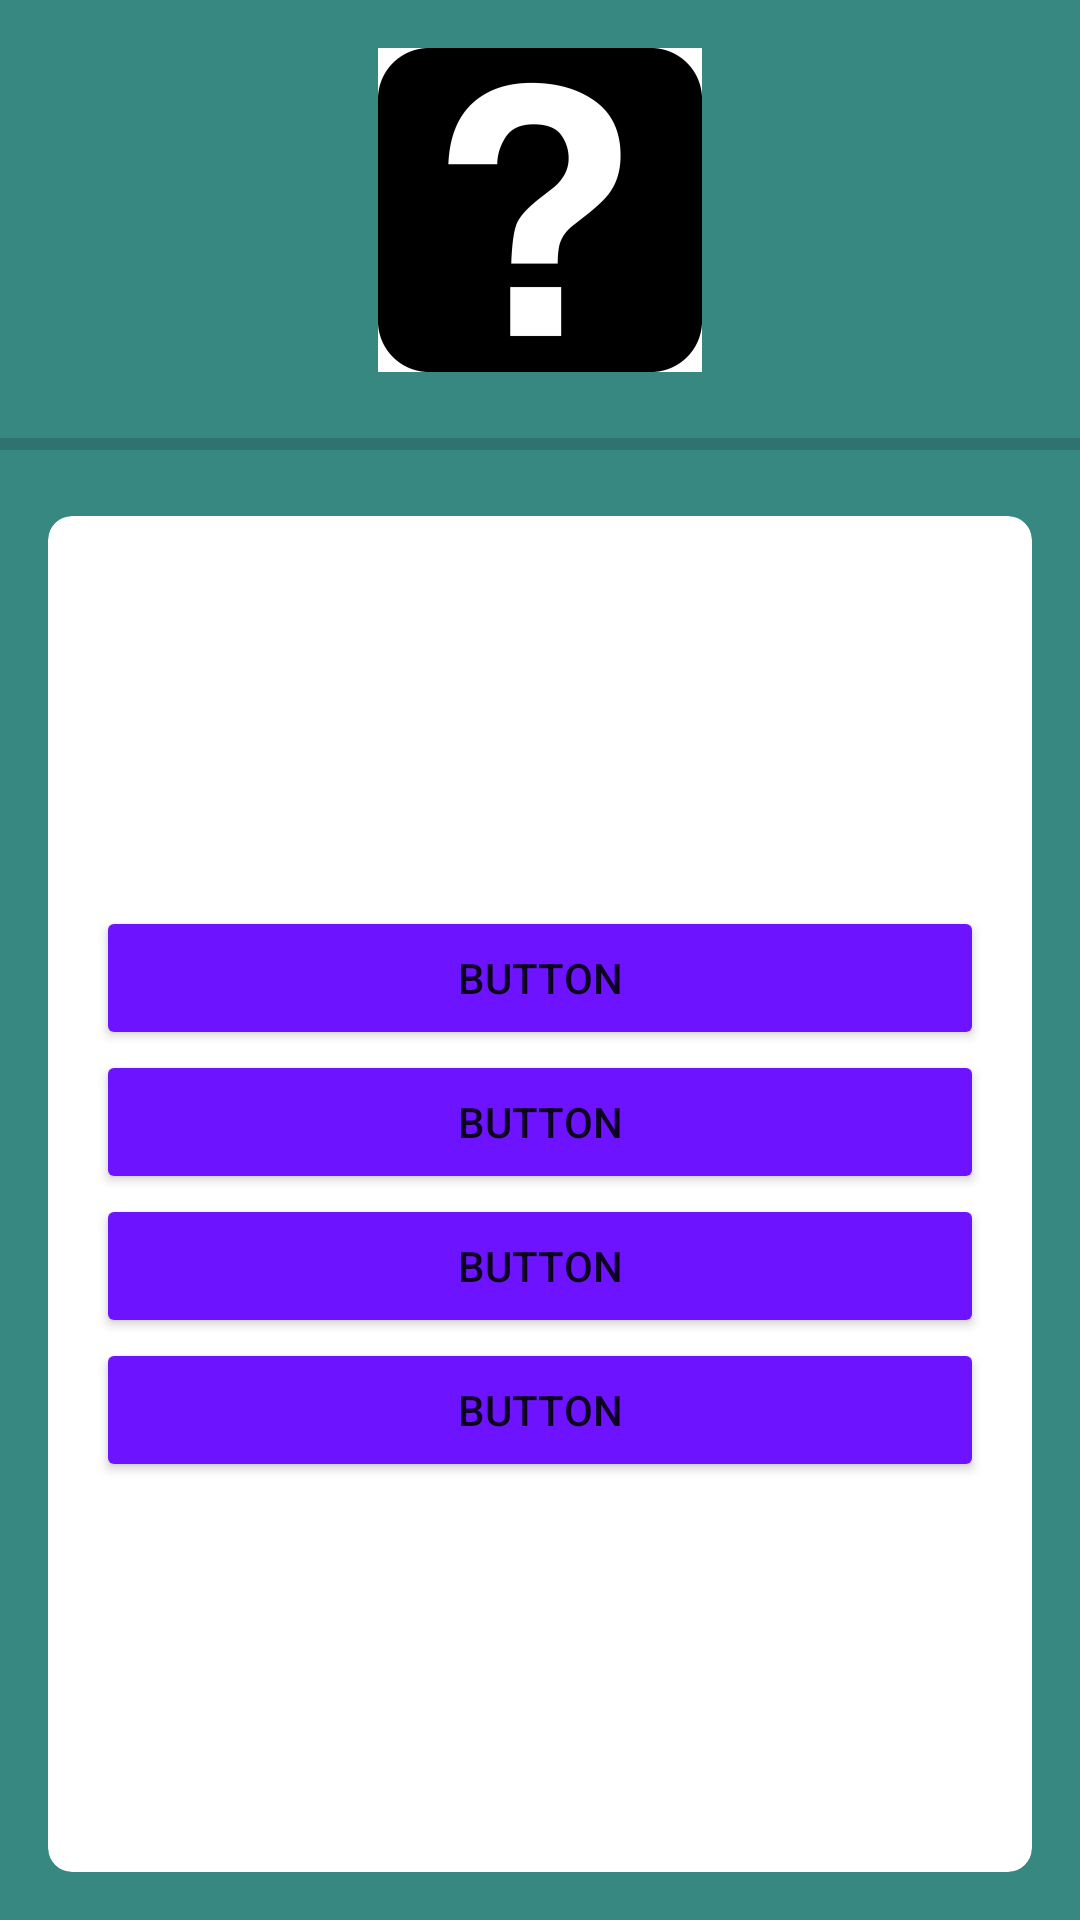

Named icons in this screenshot (1080 × 1920) and their centers, (x=x, y=y):
question mark: (x=540, y=210)
